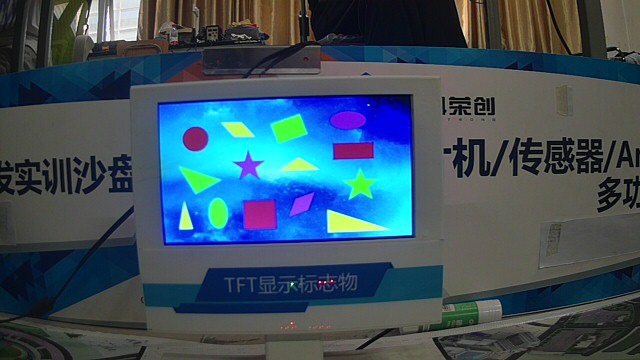graph: (155, 92, 421, 248)
